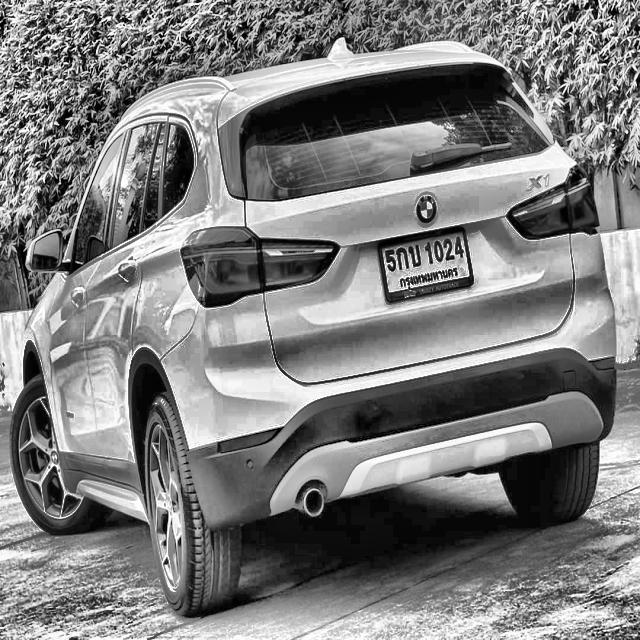license-plate: (375, 224, 475, 309)
